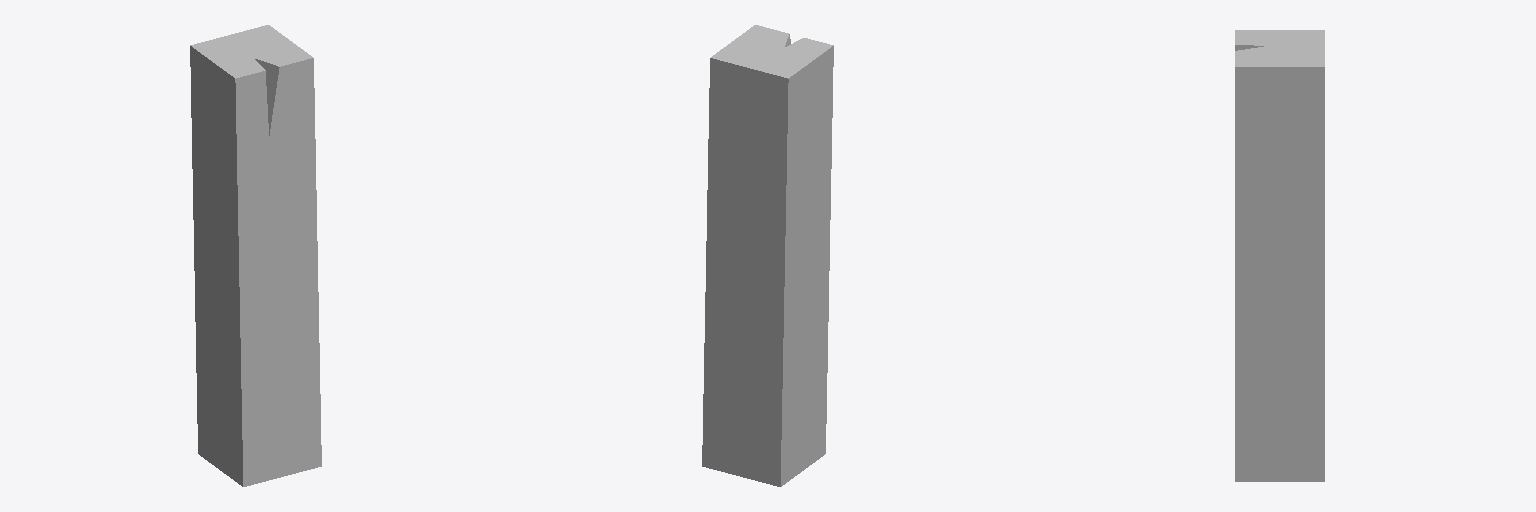
File: Prop_Fence_Post_3.obj
The picture shows the model from 3 angles: view 1: azimuth 30°, elevation 25°; view 2: azimuth 150°, elevation 25°; view 3: azimuth 270°, elevation 25°; orthographic projection.
Parts seen in each view (by area): view 1: object1; view 2: object1; view 3: object1.
Boxes of the visible parts, x1=… form: object1: x1=190, y1=25, x2=321, y2=486; object1: x1=702, y1=25, x2=833, y2=486; object1: x1=1235, y1=30, x2=1324, y2=481.
Bounding box in the file's own units: 0.1653 × 0.7529 × 0.15.